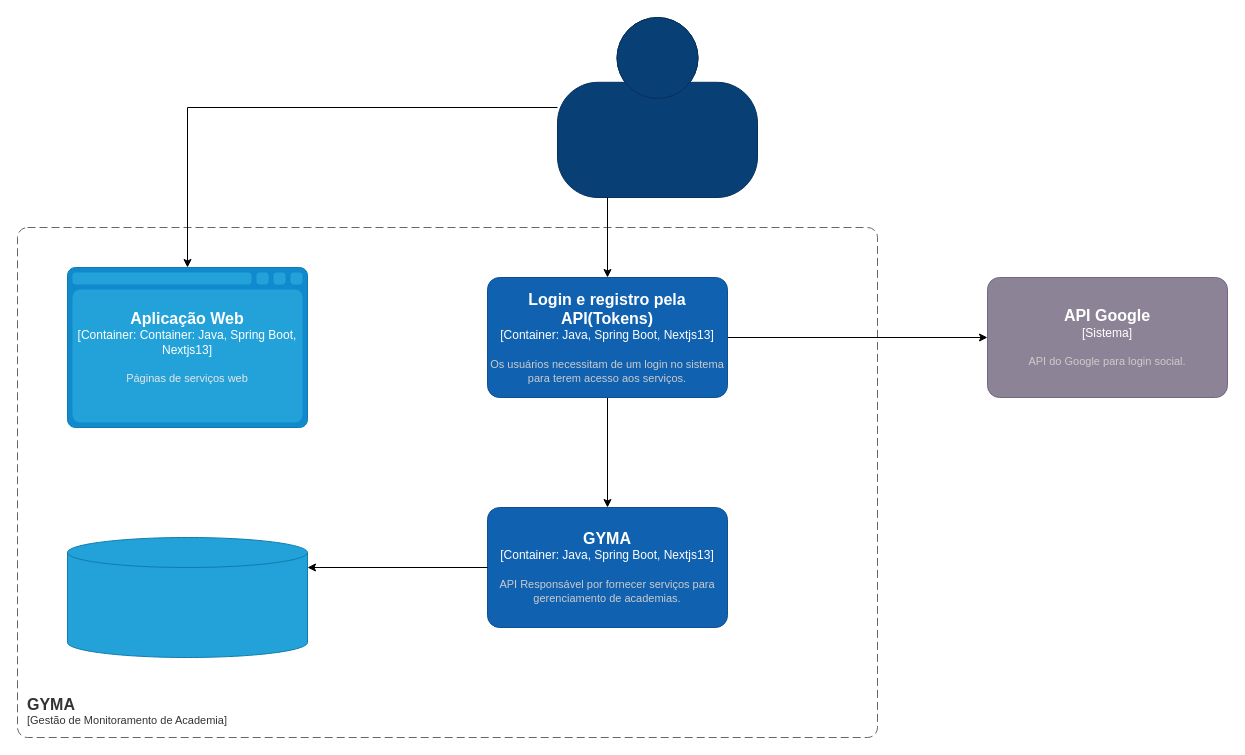
The diagram is 1245 pixels wide and 755 high, and some of its shapes have lost their labels. Each missing label, with the centre of its shape:
Alunos [Usuário]: point 657,107
Banco de Dados [DB: ] Responsável por armazenar e fornecer os dados.: point 187,597
